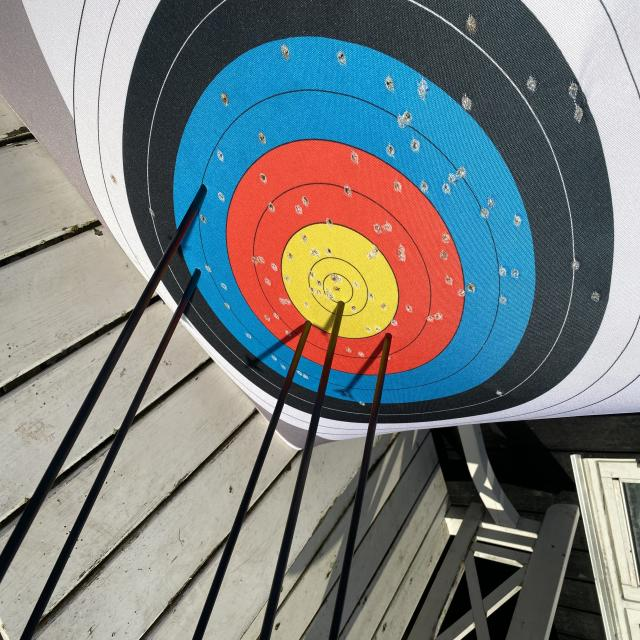Arrow_Blue: (188, 167, 218, 212), (189, 255, 215, 294)
Arrow_Red: (370, 317, 398, 353), (298, 310, 314, 342)
Arrow_Yellow: (324, 294, 350, 320)
